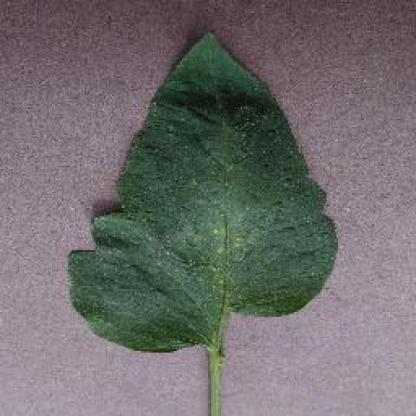Tomato_Spider_Mites: (70, 33, 340, 348)
